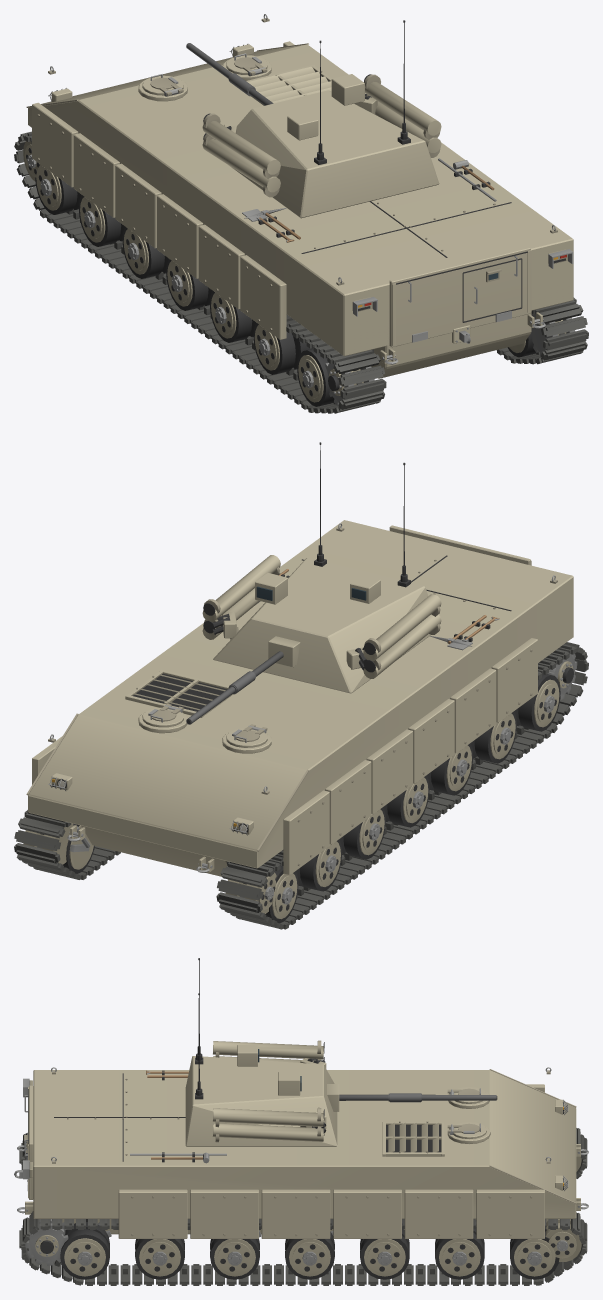
Rendered from rus_ifv_kurg.glb.
The picture shows the model from 3 angles, top to bottom: view 1: azimuth 30°, elevation 25°; view 2: azimuth 150°, elevation 25°; view 3: azimuth 270°, elevation 25°; orthographic projection. The views are drawn at different scales.
Visible parts, largest first — view 1: body, turret, barrel; view 2: body, turret, barrel; view 3: body, turret, barrel.
Boxes of the visible parts, x1,y1,x2,y2 form: body: (14,14,588,413); turret: (202,20,441,218); barrel: (186,43,273,105); body: (14,520,588,929); turret: (202,442,441,693); barrel: (186,636,300,724); body: (14,1067,588,1285); turret: (185,958,337,1146); barrel: (327,1084,497,1111).
Bounding box in the file's own units: 3.74 × 4.12 × 8.31.
